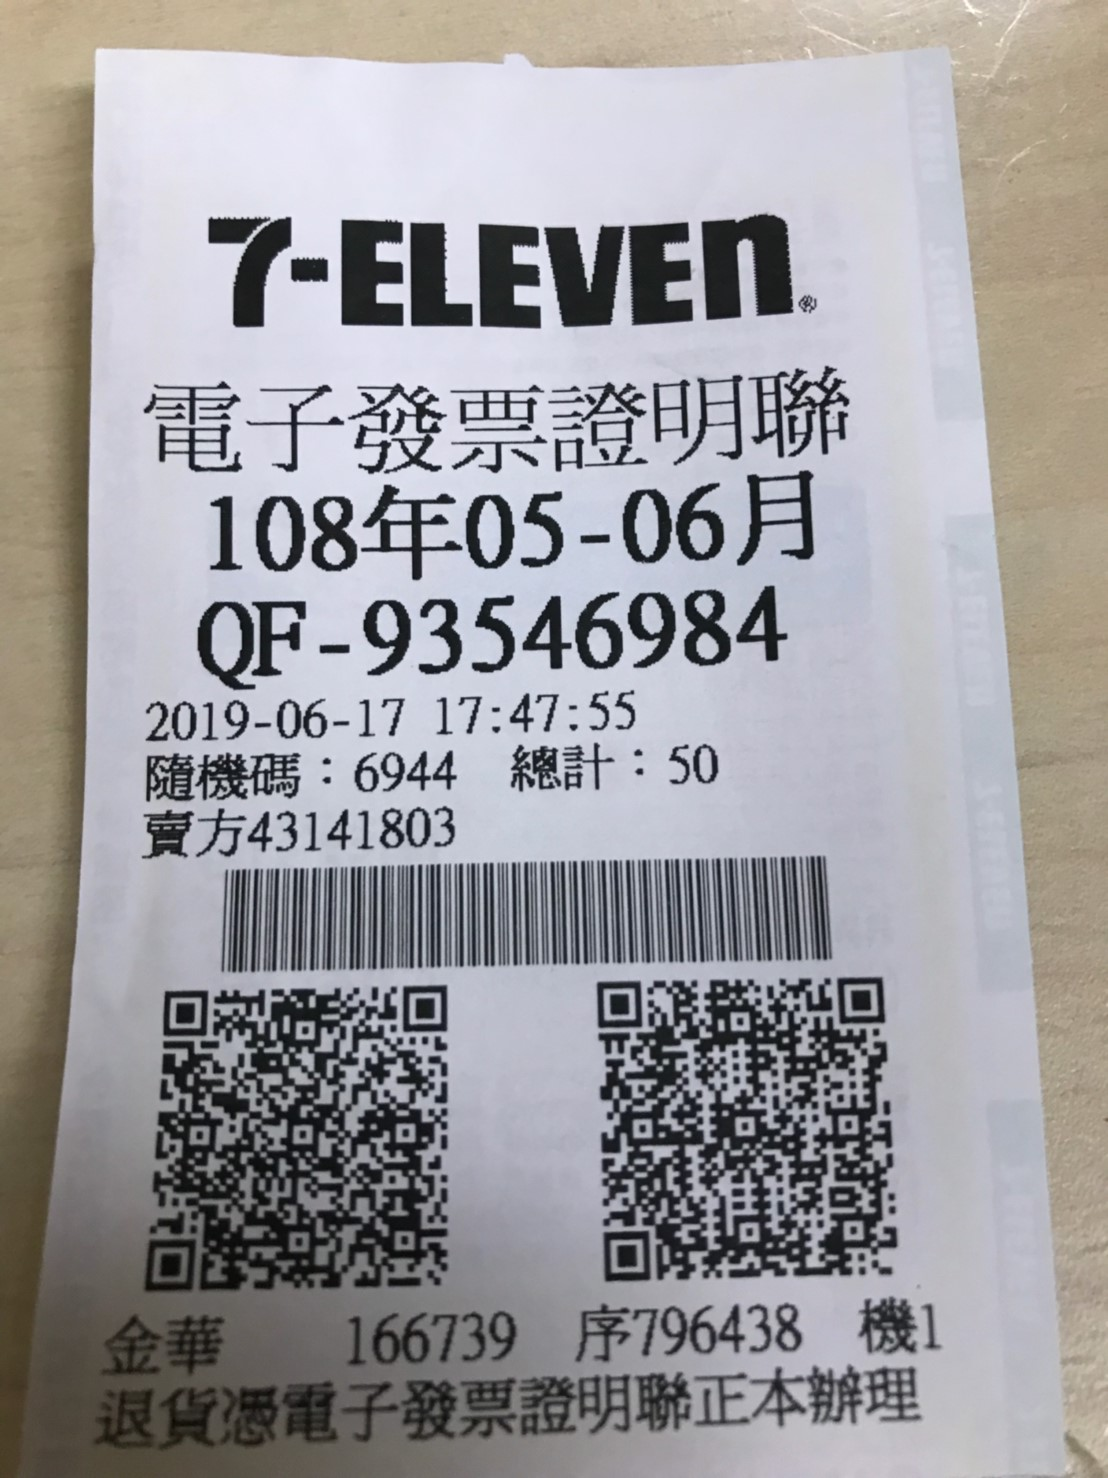Date_New: (207, 469, 824, 580)
Number_New: (365, 585, 795, 673)
